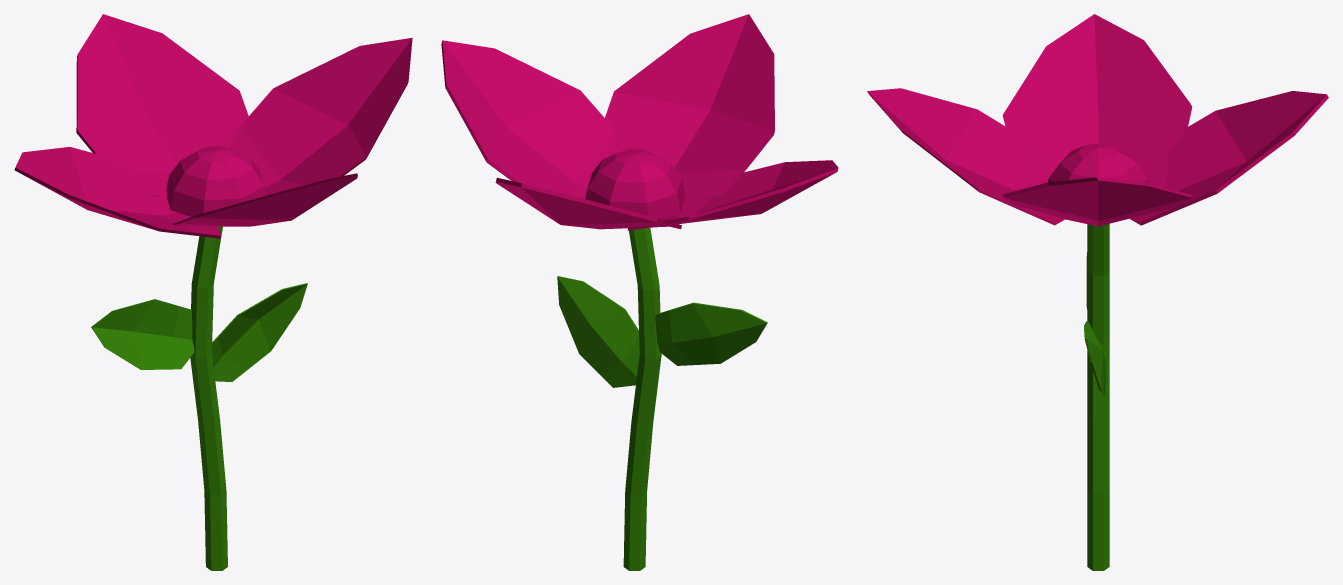
File: fleur4.fbx
The picture shows the model from 3 angles, left to right: view 1: azimuth 30°, elevation 25°; view 2: azimuth 150°, elevation 25°; view 3: azimuth 270°, elevation 25°; orthographic projection.
Parts seen in each view (by area): view 1: Plane.001, Plane.004, Sphere; view 2: Plane.001, Plane.004, Sphere; view 3: Plane.001, Plane.004, Sphere.
Part boxes in pixels (box(x1,y1,x2,y2)): Plane.001: box(14, 14, 412, 238); Plane.004: box(91, 226, 307, 570); Sphere: box(166, 146, 266, 216); Plane.001: box(441, 14, 838, 230); Plane.004: box(557, 228, 767, 570); Sphere: box(585, 149, 685, 218); Plane.001: box(867, 14, 1328, 226); Plane.004: box(1084, 223, 1109, 570); Sphere: box(1048, 143, 1148, 183).
Bounding box in the file's own units: 431 × 499 × 431.
1 material, 1 textured.
